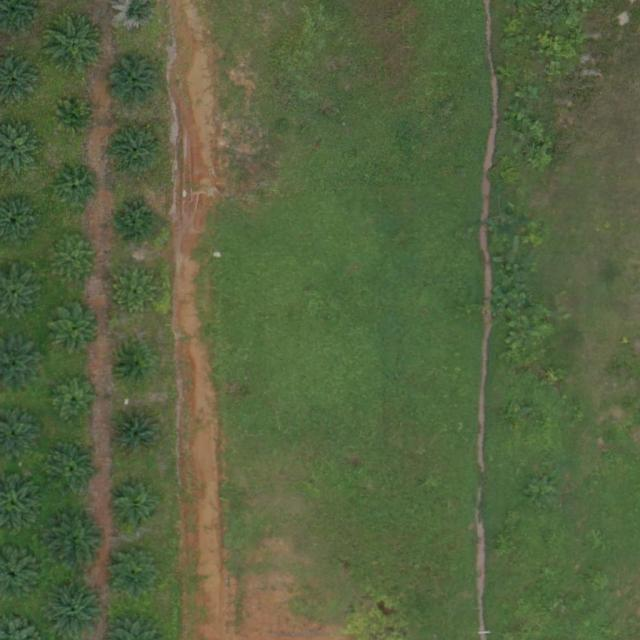Healthy: (44, 510, 107, 573), (46, 15, 108, 78), (108, 56, 163, 111), (108, 125, 163, 180), (48, 443, 103, 498), (108, 546, 162, 601), (49, 235, 96, 282)
Small: (110, 408, 165, 463), (108, 483, 163, 538), (46, 301, 100, 356), (54, 166, 101, 213), (53, 379, 100, 426), (111, 267, 158, 314), (115, 200, 162, 247), (113, 344, 153, 384), (55, 100, 95, 139)
